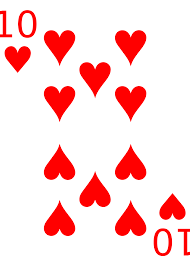ten of hearts: (1, 6, 190, 262)
